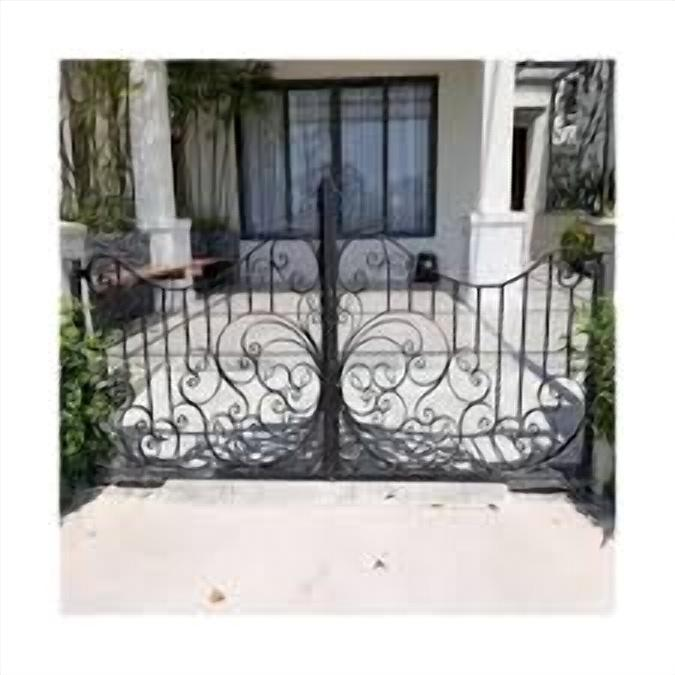Gate: (71, 177, 611, 484)
Window-without-grill: (230, 78, 439, 241), (509, 123, 530, 210)
